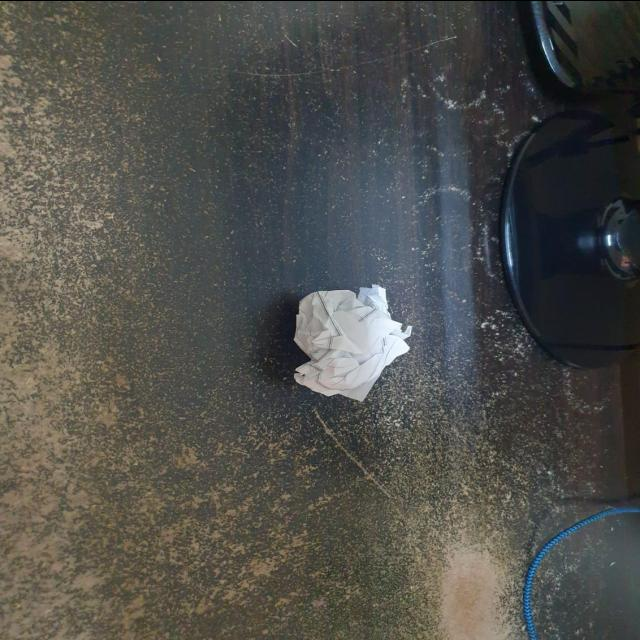kertas: (276, 284, 414, 406)
